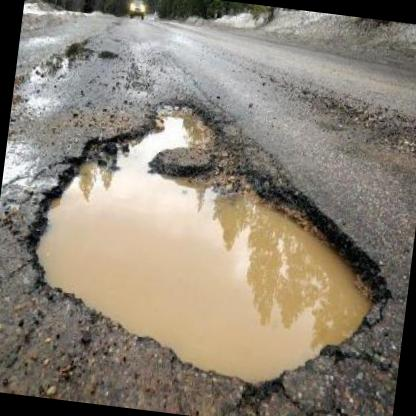pothole: (9, 79, 412, 407)
